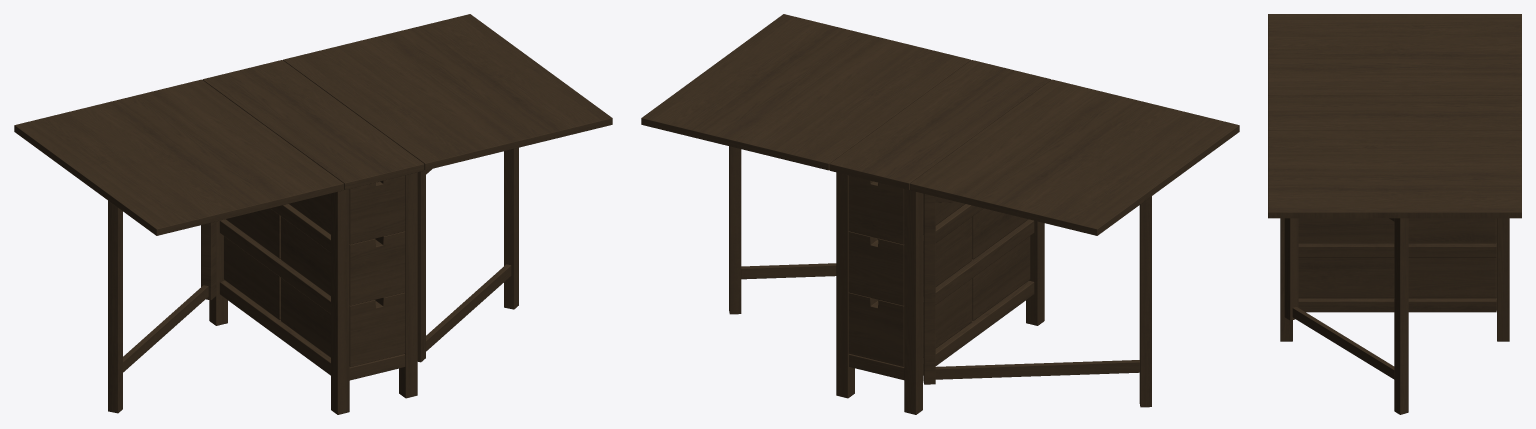
Rendered from table_52_03.001.fbx.
The picture shows the model from 3 angles, left to right: view 1: azimuth 30°, elevation 25°; view 2: azimuth 150°, elevation 25°; view 3: azimuth 270°, elevation 25°; orthographic projection. The views are drawn at different scales.
Parts seen in each view (by area): view 1: table_52_03.001; view 2: table_52_03.001; view 3: table_52_03.001.
Part boxes in pixels (bbox=[...]): table_52_03.001: bbox=[14, 14, 612, 414]; table_52_03.001: bbox=[641, 14, 1239, 414]; table_52_03.001: bbox=[1268, 14, 1521, 414].
Size of the model in its own units: 148 by 73.5 by 80.
1 material, 1 textured.
